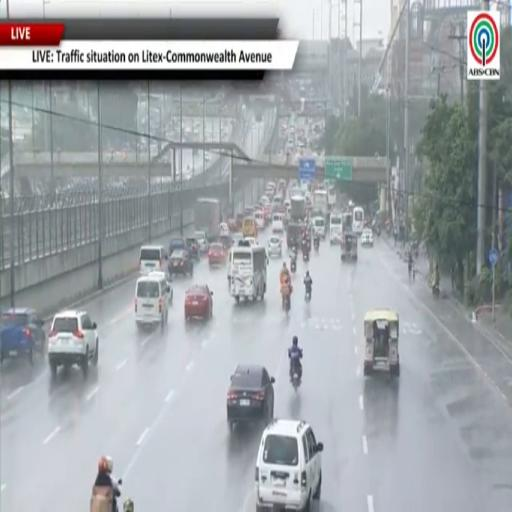bus: (230, 240, 267, 302), (330, 214, 342, 245), (352, 206, 364, 234)
car: (256, 420, 323, 511), (48, 311, 98, 376), (227, 365, 275, 429), (0, 308, 46, 364), (185, 284, 212, 321), (148, 271, 173, 303), (169, 249, 193, 276), (208, 243, 226, 266), (186, 237, 199, 261), (194, 231, 208, 253), (268, 235, 282, 257), (169, 237, 186, 255), (218, 236, 232, 251), (361, 229, 373, 246), (232, 233, 244, 246), (219, 222, 229, 236), (228, 218, 237, 232), (244, 237, 257, 246)
motorcycle: (291, 363, 301, 391), (123, 498, 134, 511), (283, 294, 290, 312), (432, 284, 440, 299), (305, 288, 311, 302), (314, 238, 319, 252), (291, 259, 296, 273), (303, 251, 309, 262)
truck: (194, 198, 221, 242), (313, 189, 327, 217), (291, 196, 306, 221)
